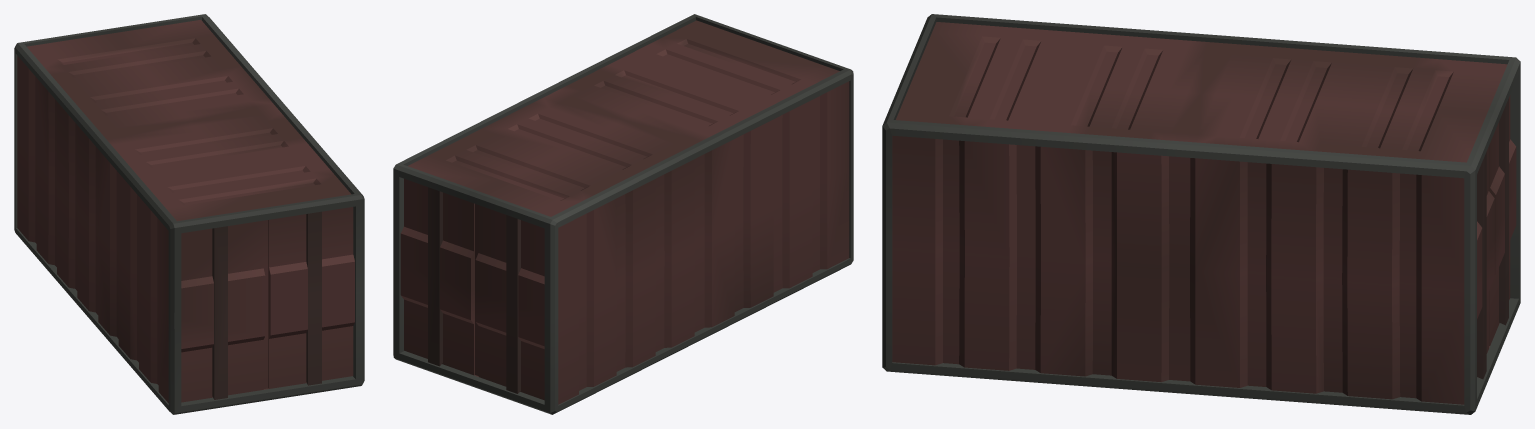
File: ct_container_r.glb
3 views of the same model, side by side, from view 1: azimuth 30°, elevation 25°; view 2: azimuth 150°, elevation 25°; view 3: azimuth 270°, elevation 25° (orthographic). The views are drawn at different scales.
Parts seen in each view (by area): view 1: ct_container_r; view 2: ct_container_r; view 3: ct_container_r.
Boxes of the visible parts, box(x1,y1,x2,y2) form: ct_container_r: box(14, 14, 364, 414); ct_container_r: box(393, 14, 853, 414); ct_container_r: box(882, 14, 1520, 414).
Size of the model in its own units: 3.49 by 2.6 by 6.05.
